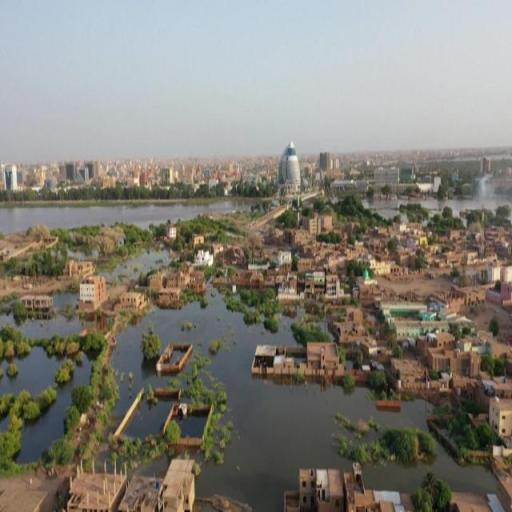flood: (112, 289, 430, 512), (0, 200, 250, 232), (19, 360, 88, 463), (365, 449, 498, 494), (419, 174, 512, 212), (15, 294, 88, 338), (0, 348, 62, 393), (122, 400, 172, 439), (111, 252, 170, 280), (177, 415, 207, 438), (370, 201, 400, 216)
house: (296, 463, 349, 512), (70, 468, 122, 512), (161, 453, 196, 512), (306, 341, 340, 377), (394, 316, 442, 341), (491, 394, 512, 446), (78, 276, 104, 318), (20, 294, 54, 310), (280, 264, 298, 294), (324, 271, 339, 301), (436, 332, 458, 352), (120, 292, 145, 308), (196, 250, 214, 267)
